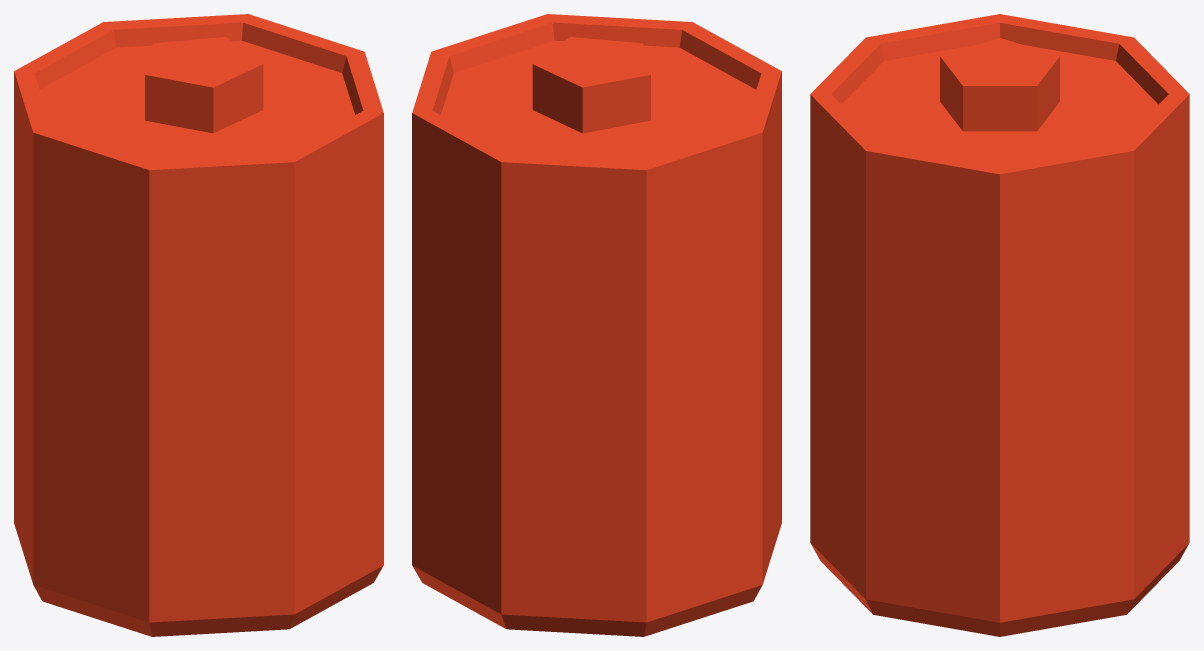
Rendered from SM_Thinner_B_City.fbx.
3 views of the same model, side by side, from view 1: azimuth 30°, elevation 25°; view 2: azimuth 150°, elevation 25°; view 3: azimuth 270°, elevation 25° (orthographic).
Visible parts, largest first — view 1: SM_Thinner_B_City; view 2: SM_Thinner_B_City; view 3: SM_Thinner_B_City.
Boxes of the visible parts, box(x1,y1,x2,y2) form: SM_Thinner_B_City: box(14, 14, 383, 636); SM_Thinner_B_City: box(412, 14, 781, 636); SM_Thinner_B_City: box(810, 14, 1189, 636).
Size of the model in its own units: 0.1171 by 0.1693 by 0.1171.
